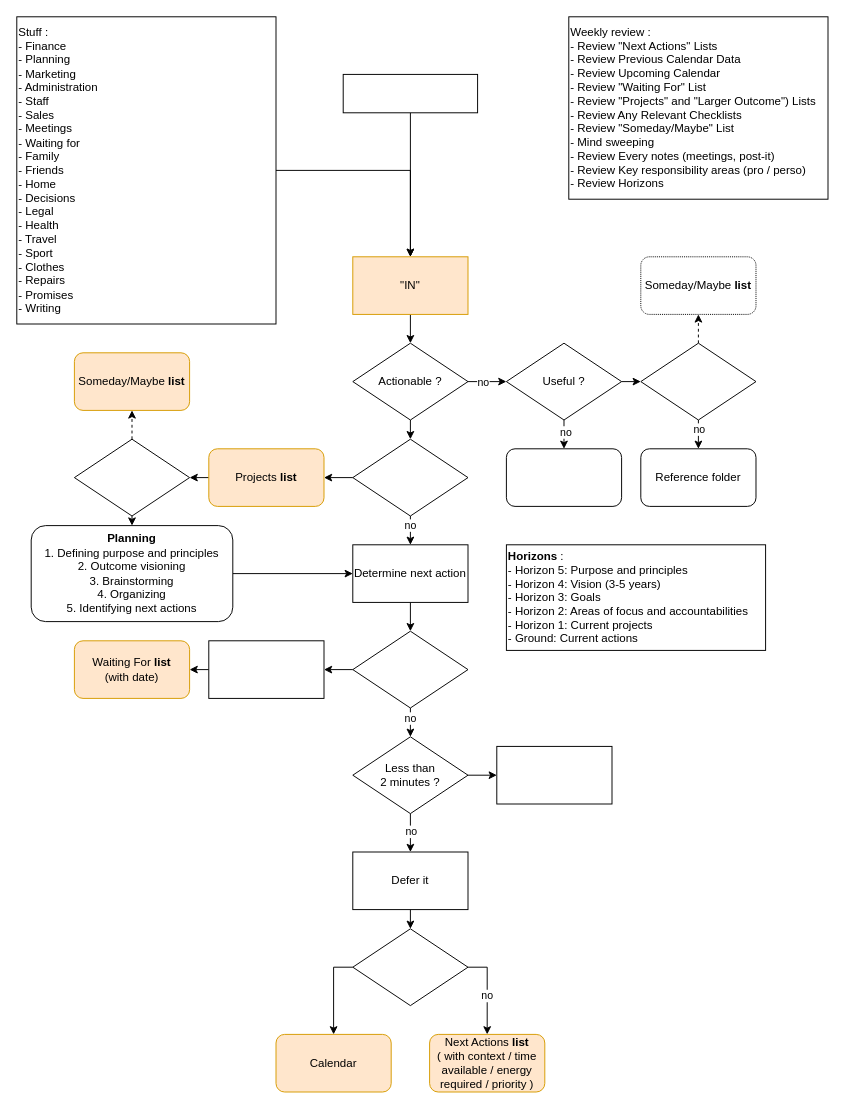
The diagram is 845 pixels wide and 1109 high, and some of its shapes have lost their labels. Each missing label, with the centre of its shape:
"Actionable later ?" goes at pixel 698 381.
"Can I delegate ?" goes at pixel 410 669.
"Delegate it" goes at pixel 266 669.
"Do it now" goes at pixel 554 774.
"More than one action ?" goes at pixel 410 477.
"Time/Date specific ?" goes at pixel 410 967.
"Trash" goes at pixel 563 477.
"unexpected stuff" goes at pixel 410 93.
"Urgent ?" goes at pixel 131 477.
